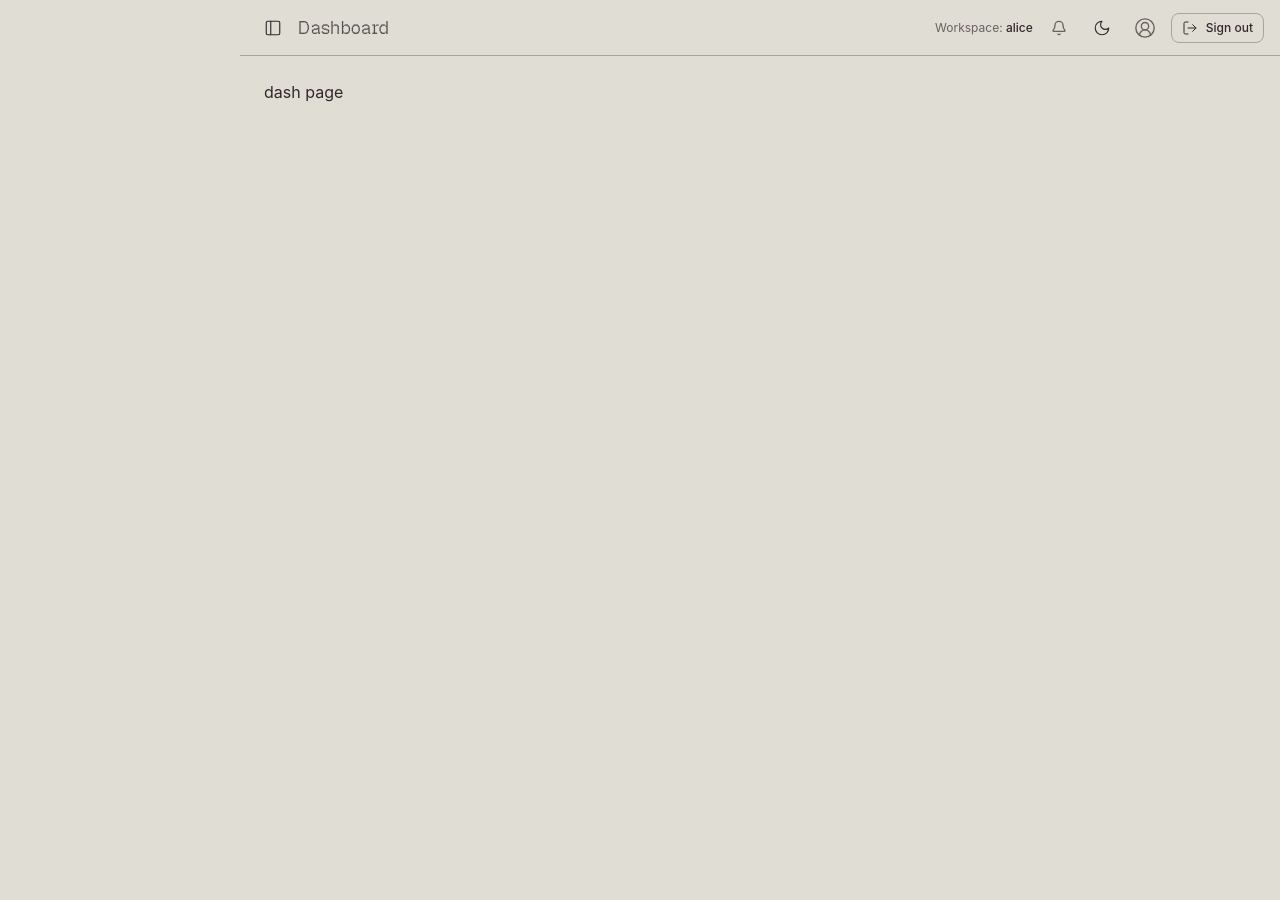
AppLayout — header › profile button opens a popup with a Settings link that navigates; Escape and outside click close it
expect the text "alice" is shown: met, box [1006,20,1033,34]
Click the button named "Open profile menu".
click(1145, 28)  # box [1127,10,1163,46]
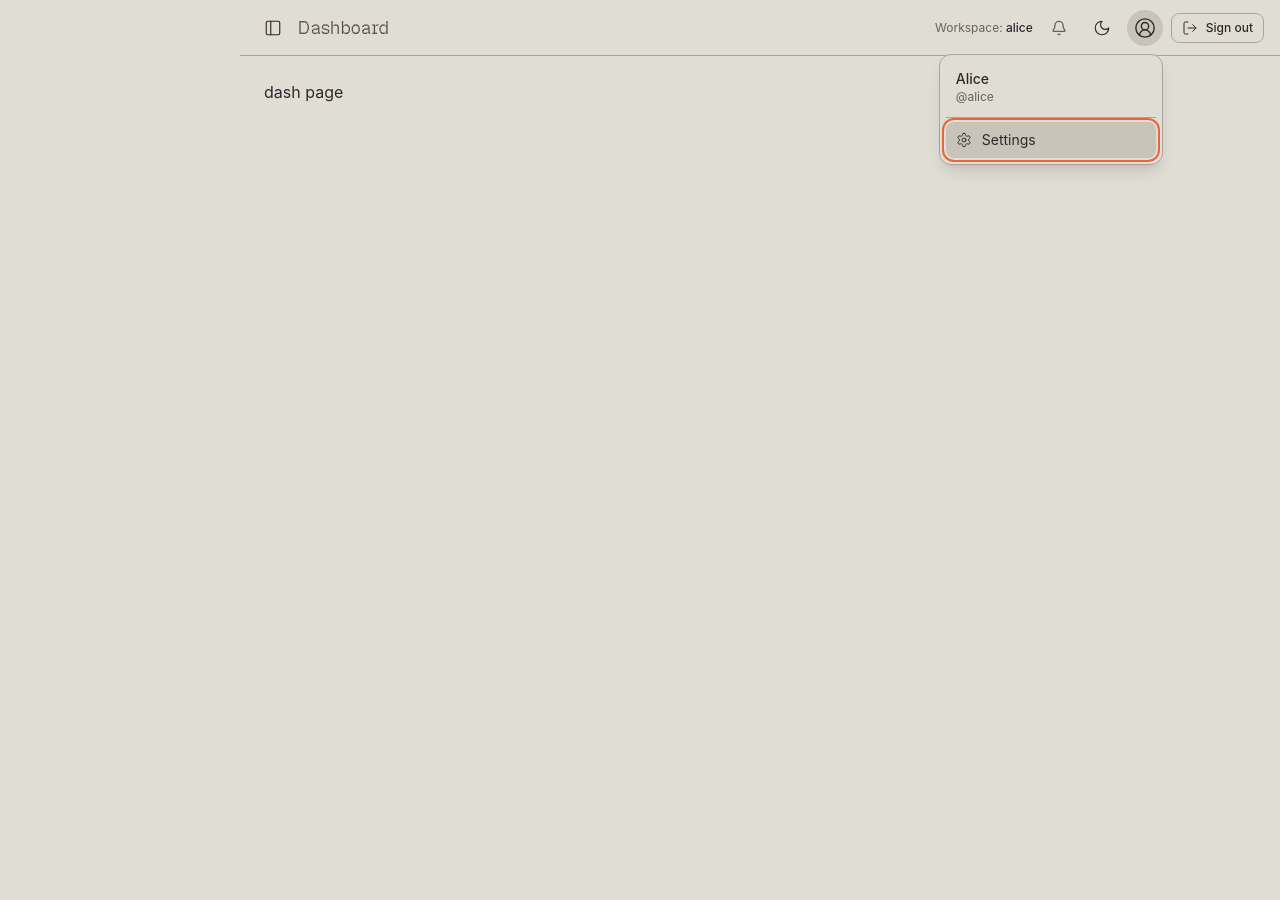
expect the menu named "Profile" shows "@alice": met, box [939,54,1163,164]
Press Escape
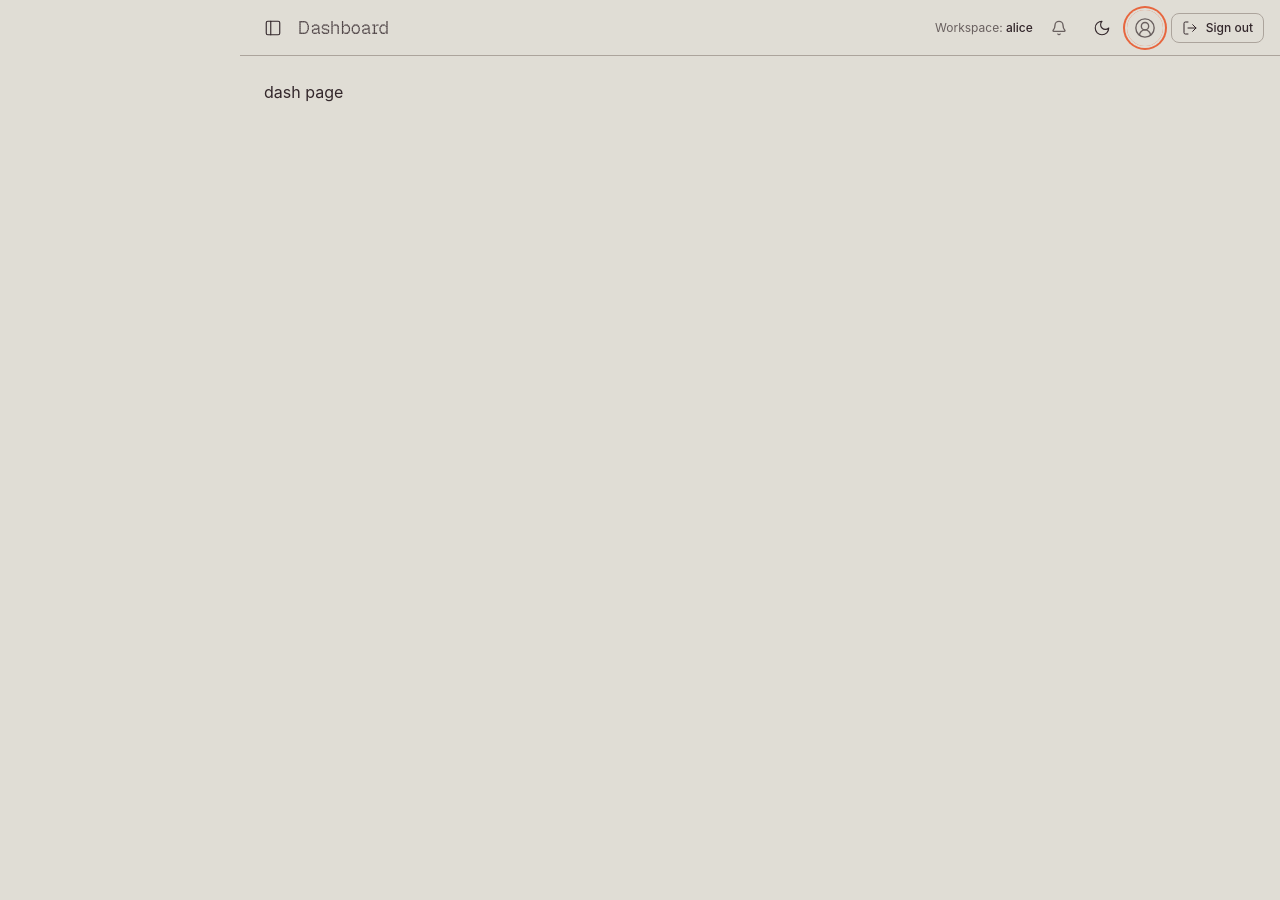
expect the menu is gone: met
Click the button named "Open profile menu".
click(1145, 28)  # box [1127,10,1163,46]
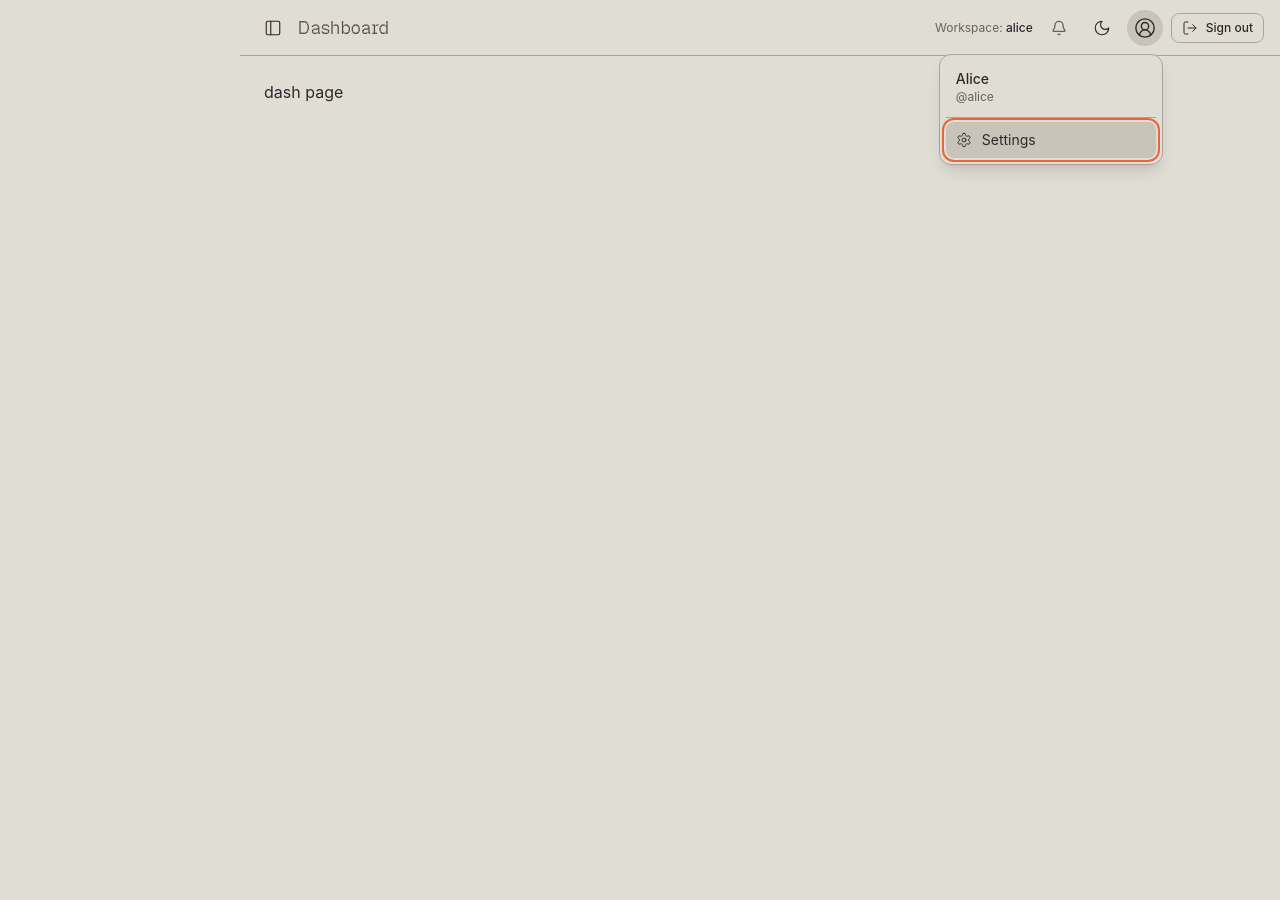
Click the element that starts with "SYNAXYS".
click(640, 450)  # box [0,0,1279,899]
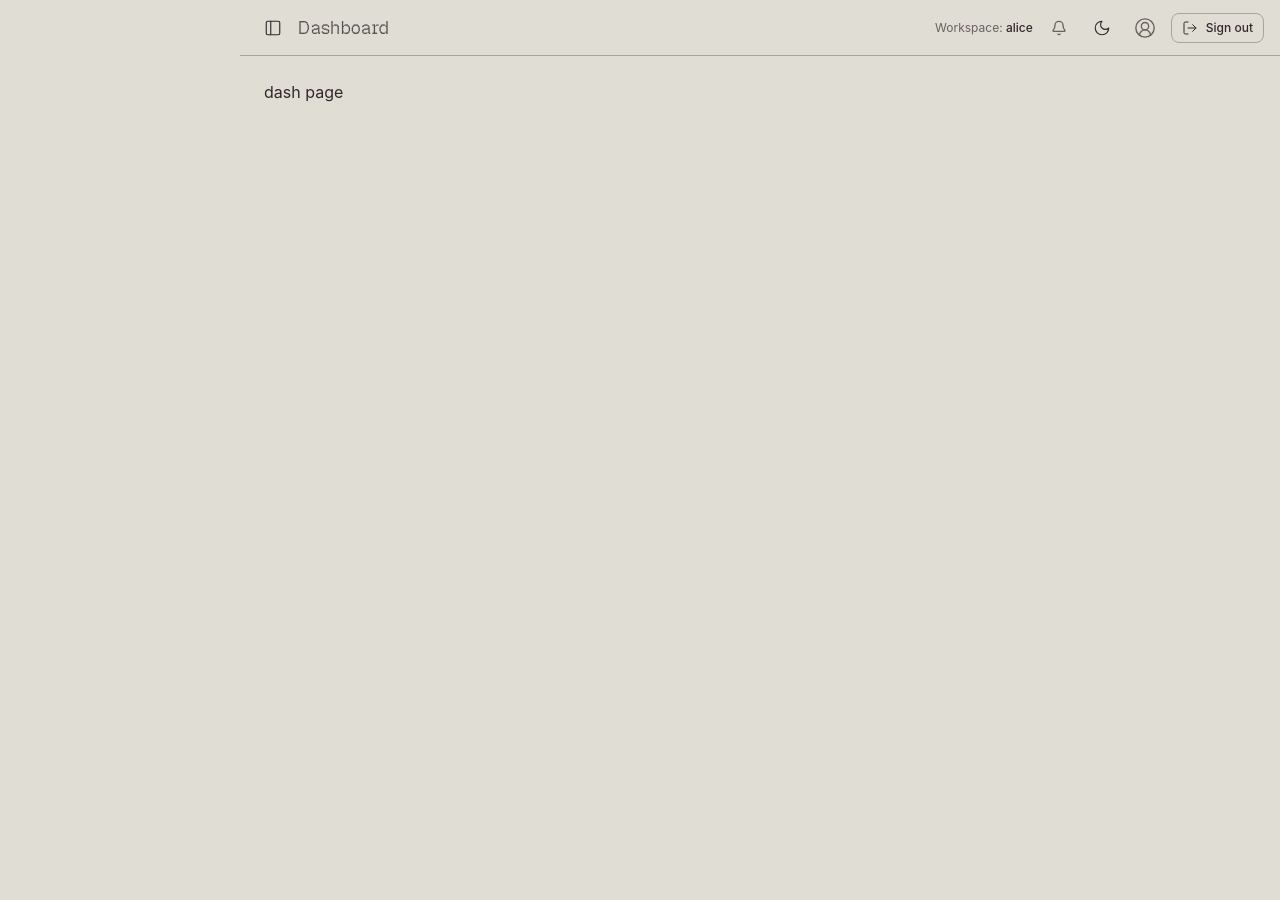
expect the menu is gone: met
Click the button named "Open profile menu".
click(1145, 28)  # box [1127,10,1163,46]
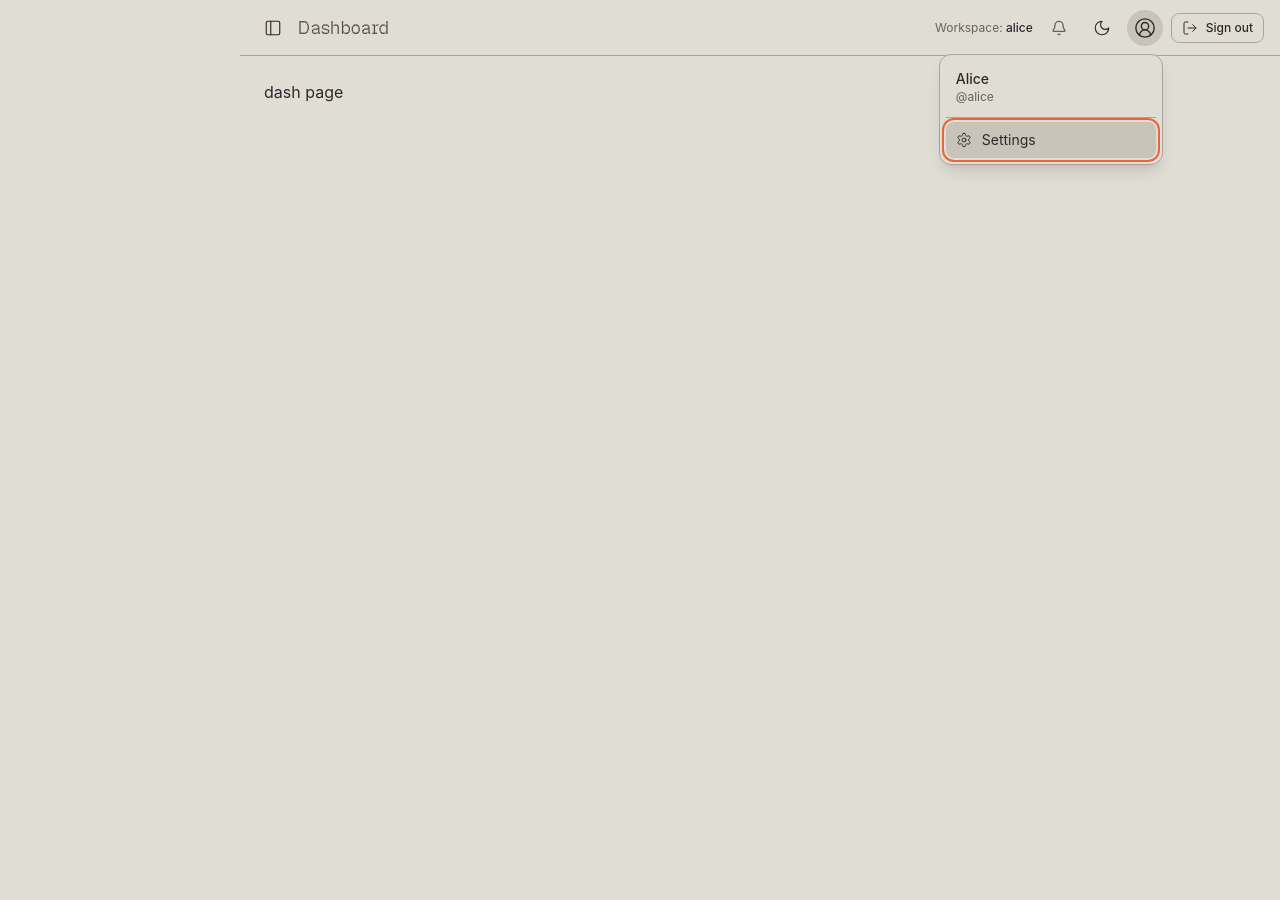
Click the menu item "Settings".
click(1051, 140)  # box [946,122,1156,158]
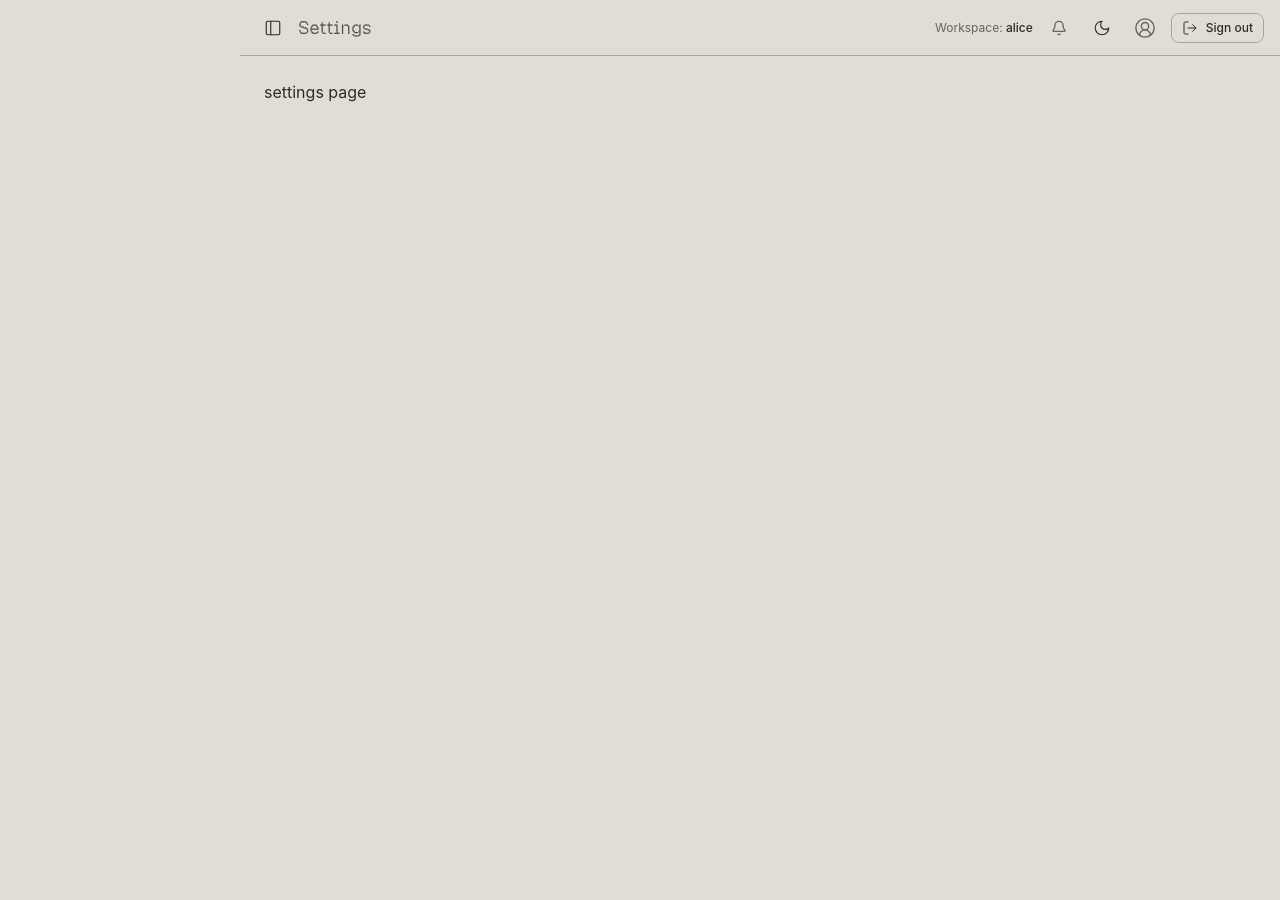
expect the text "settings page" is shown: met, box [264,82,366,102]
expect the menu is gone: met
expect the heading reads "Settings": met, box [298,16,371,38]
